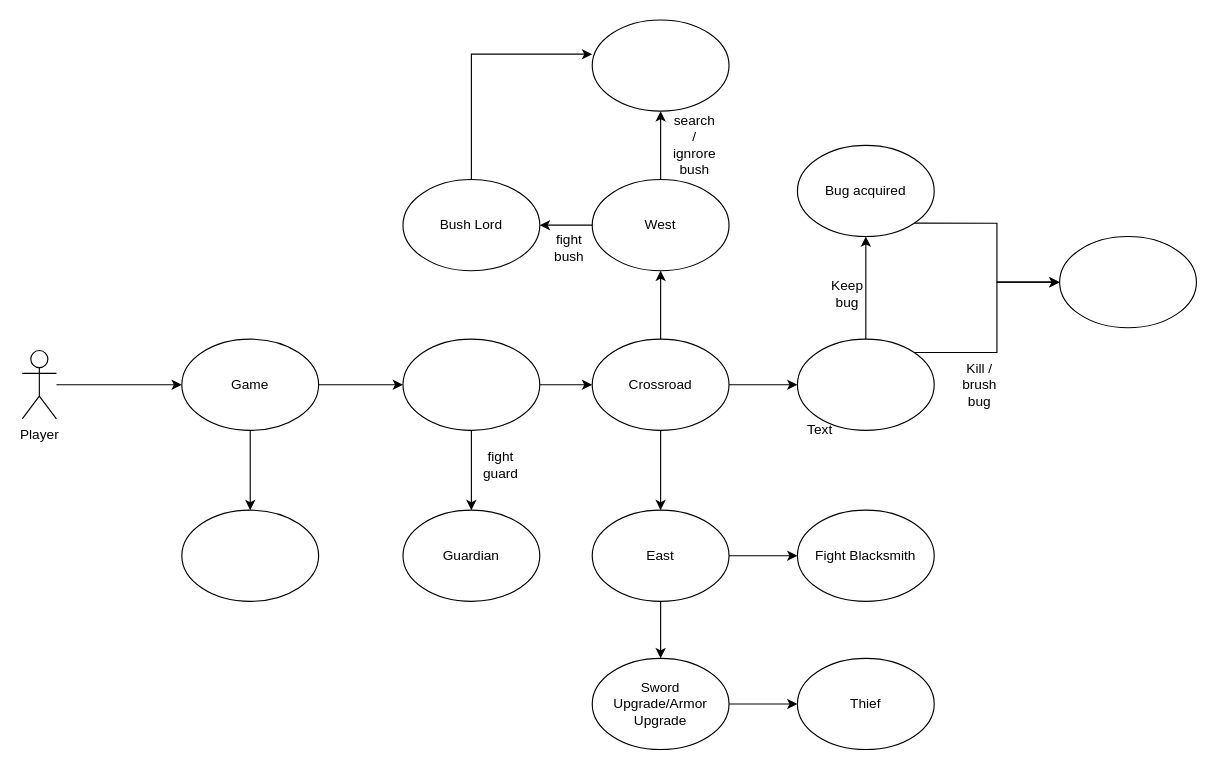
Some shapes in this 1216 by 770 pixel diagram are drawn without their labels. Here are the shapes that lost their labels. From the top down, the box of each, then its label:
(591, 19, 729, 111): Lake (goblin fight)
(1058, 235, 1196, 328): Forest (druids fight)
(402, 338, 540, 430): Towngate
(796, 338, 934, 430): North
(181, 509, 319, 601): Highscore
